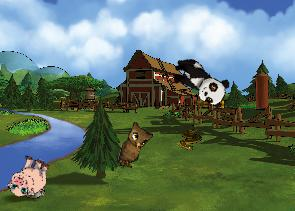owl: (117, 120, 155, 172)
panda: (166, 53, 233, 110)
pig: (4, 151, 54, 203)
